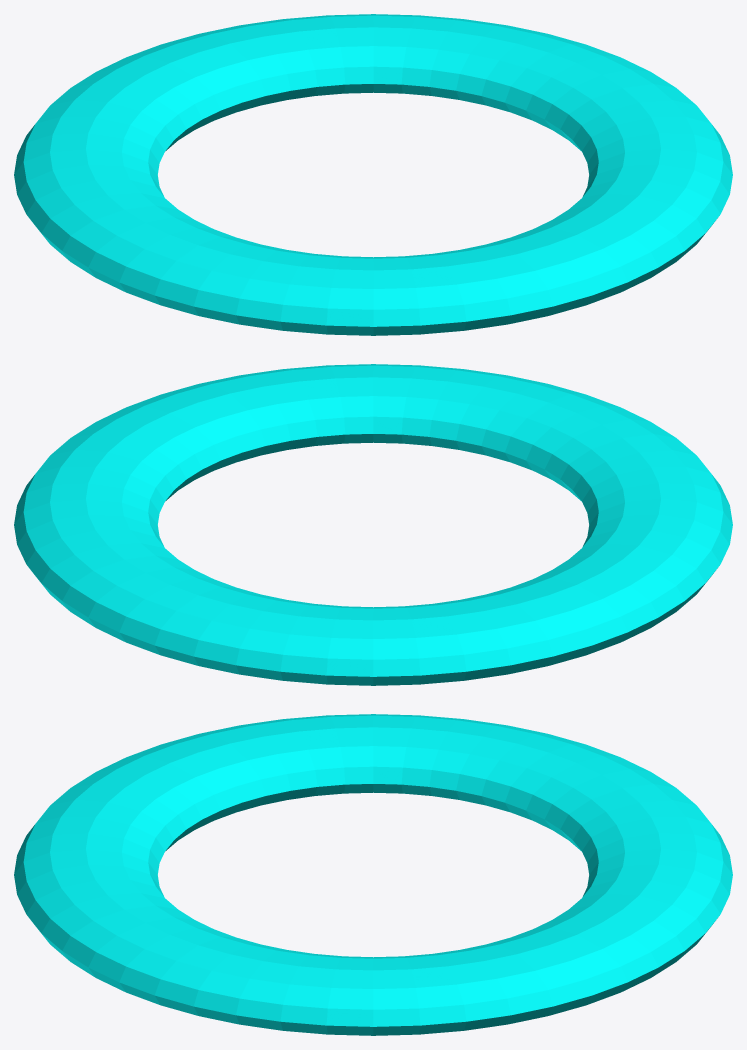
File: warp.obj
3 renders of one model, top to bottom at view 1: azimuth 30°, elevation 25°; view 2: azimuth 150°, elevation 25°; view 3: azimuth 270°, elevation 25°, orthographic.
Visible parts, largest first — view 1: トーラス; view 2: トーラス; view 3: トーラス.
Part boxes in pixels (x1,y1,x2,y2): トーラス: (14, 14, 732, 335); トーラス: (14, 364, 732, 685); トーラス: (14, 714, 732, 1035).
Size of the model in its own units: 2.5 by 0.2002 by 2.5.
Materials: 1 (1 with a texture image).
